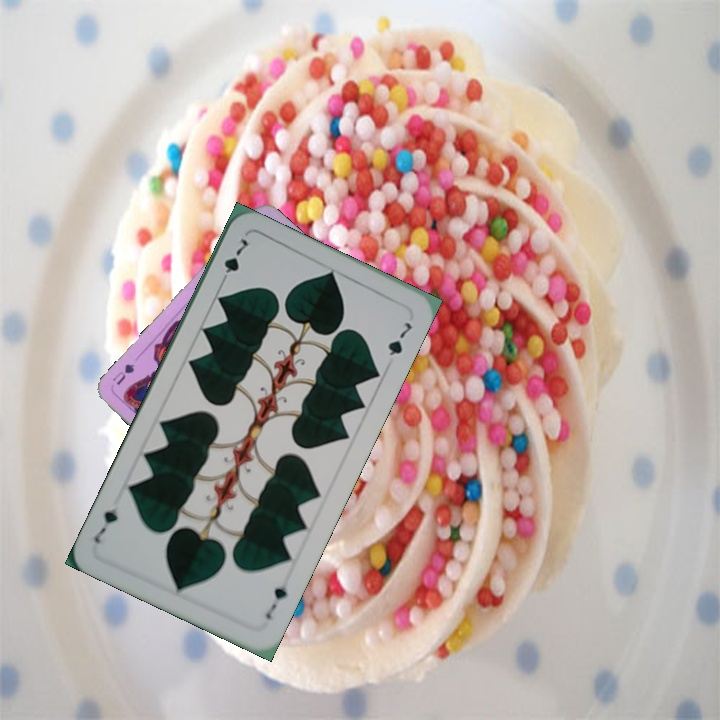G7: (216, 234, 251, 288), (261, 576, 292, 622)
